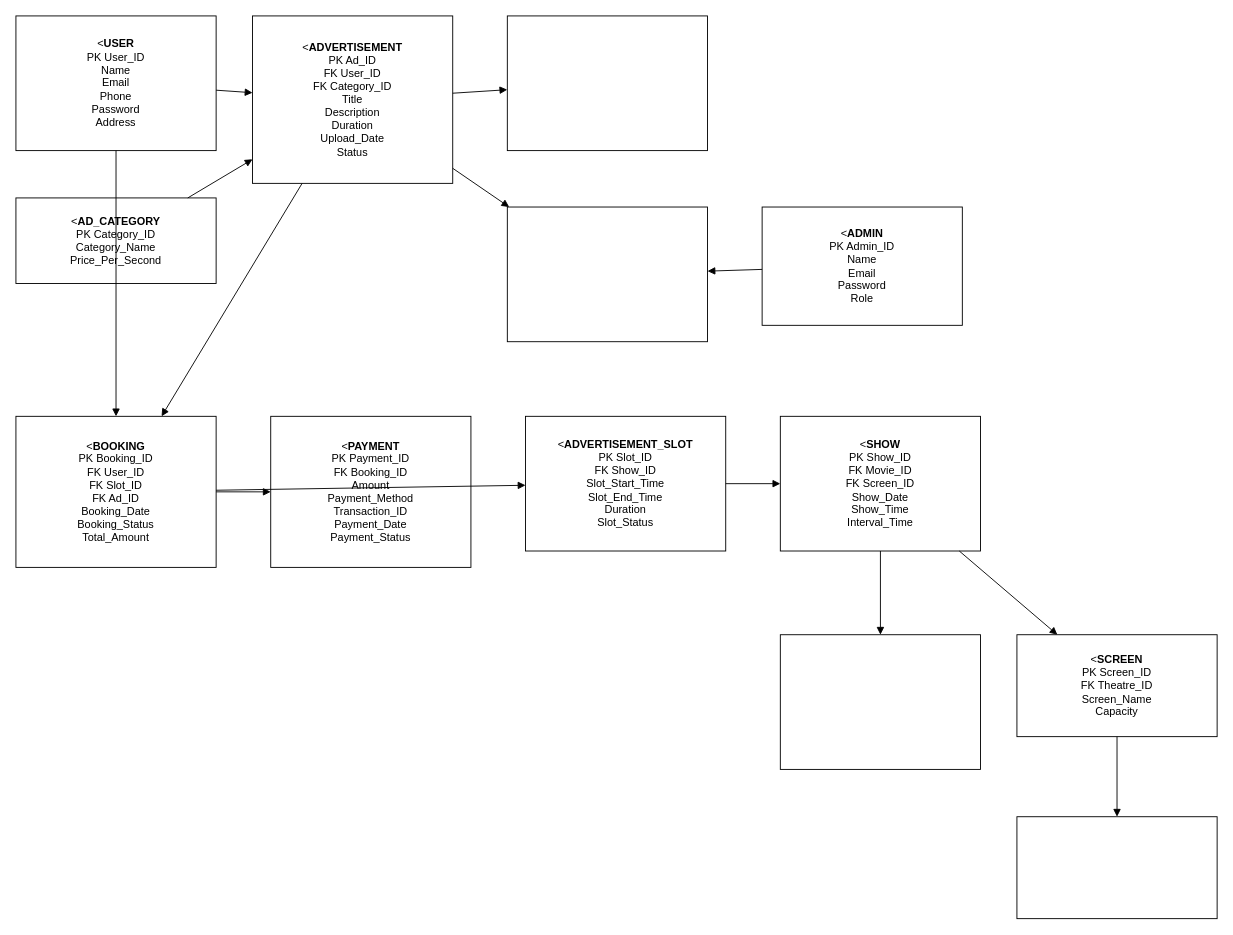
Some shapes in this 1233 by 935 pixel diagram are drawn without their labels. Each missing label, with the centre of its shape:
< APPROVAL PK Approval_ID FK Ad_ID FK Admin_ID Approval_Date Status Remarks: the point at 607,274
< MEDIA_FILE PK Media_ID FK Ad_ID File_Name File_Path File_Type File_Size: the point at 607,83
< MOVIE PK Movie_ID Movie_Name Language Genre Duration Certificate: the point at 880,701
< THEATRE PK Theatre_ID Theatre_Name Location Contact_No: the point at 1116,867
